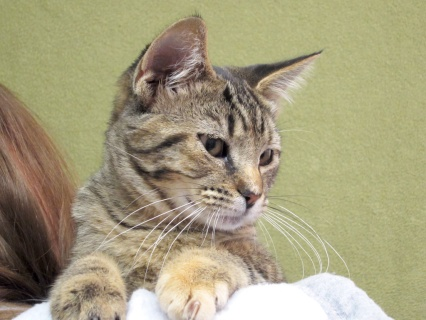Cat: (32, 8, 350, 319)
